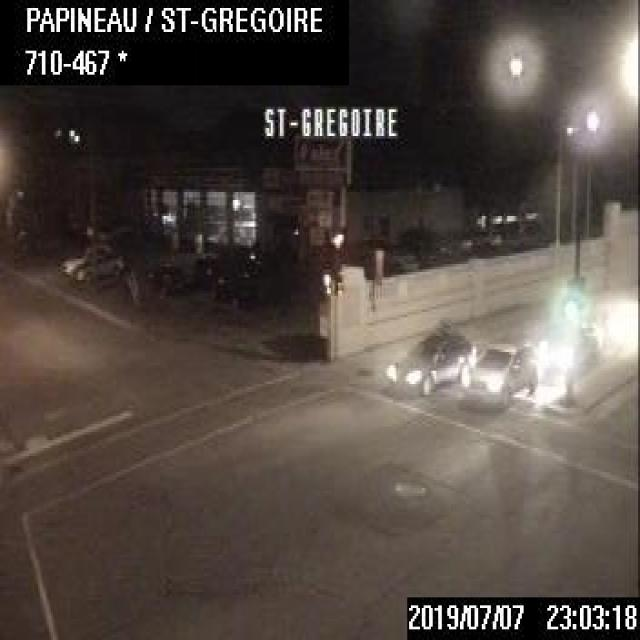vehicle: (386, 320, 476, 403), (457, 336, 539, 408), (71, 246, 124, 284)
